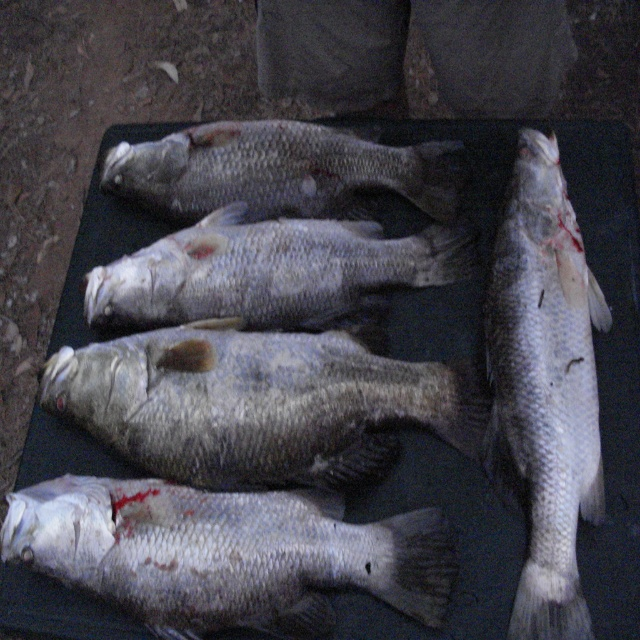Fish: (35, 313, 482, 491), (0, 479, 462, 639), (478, 121, 614, 639), (82, 189, 480, 328), (96, 115, 468, 228)
